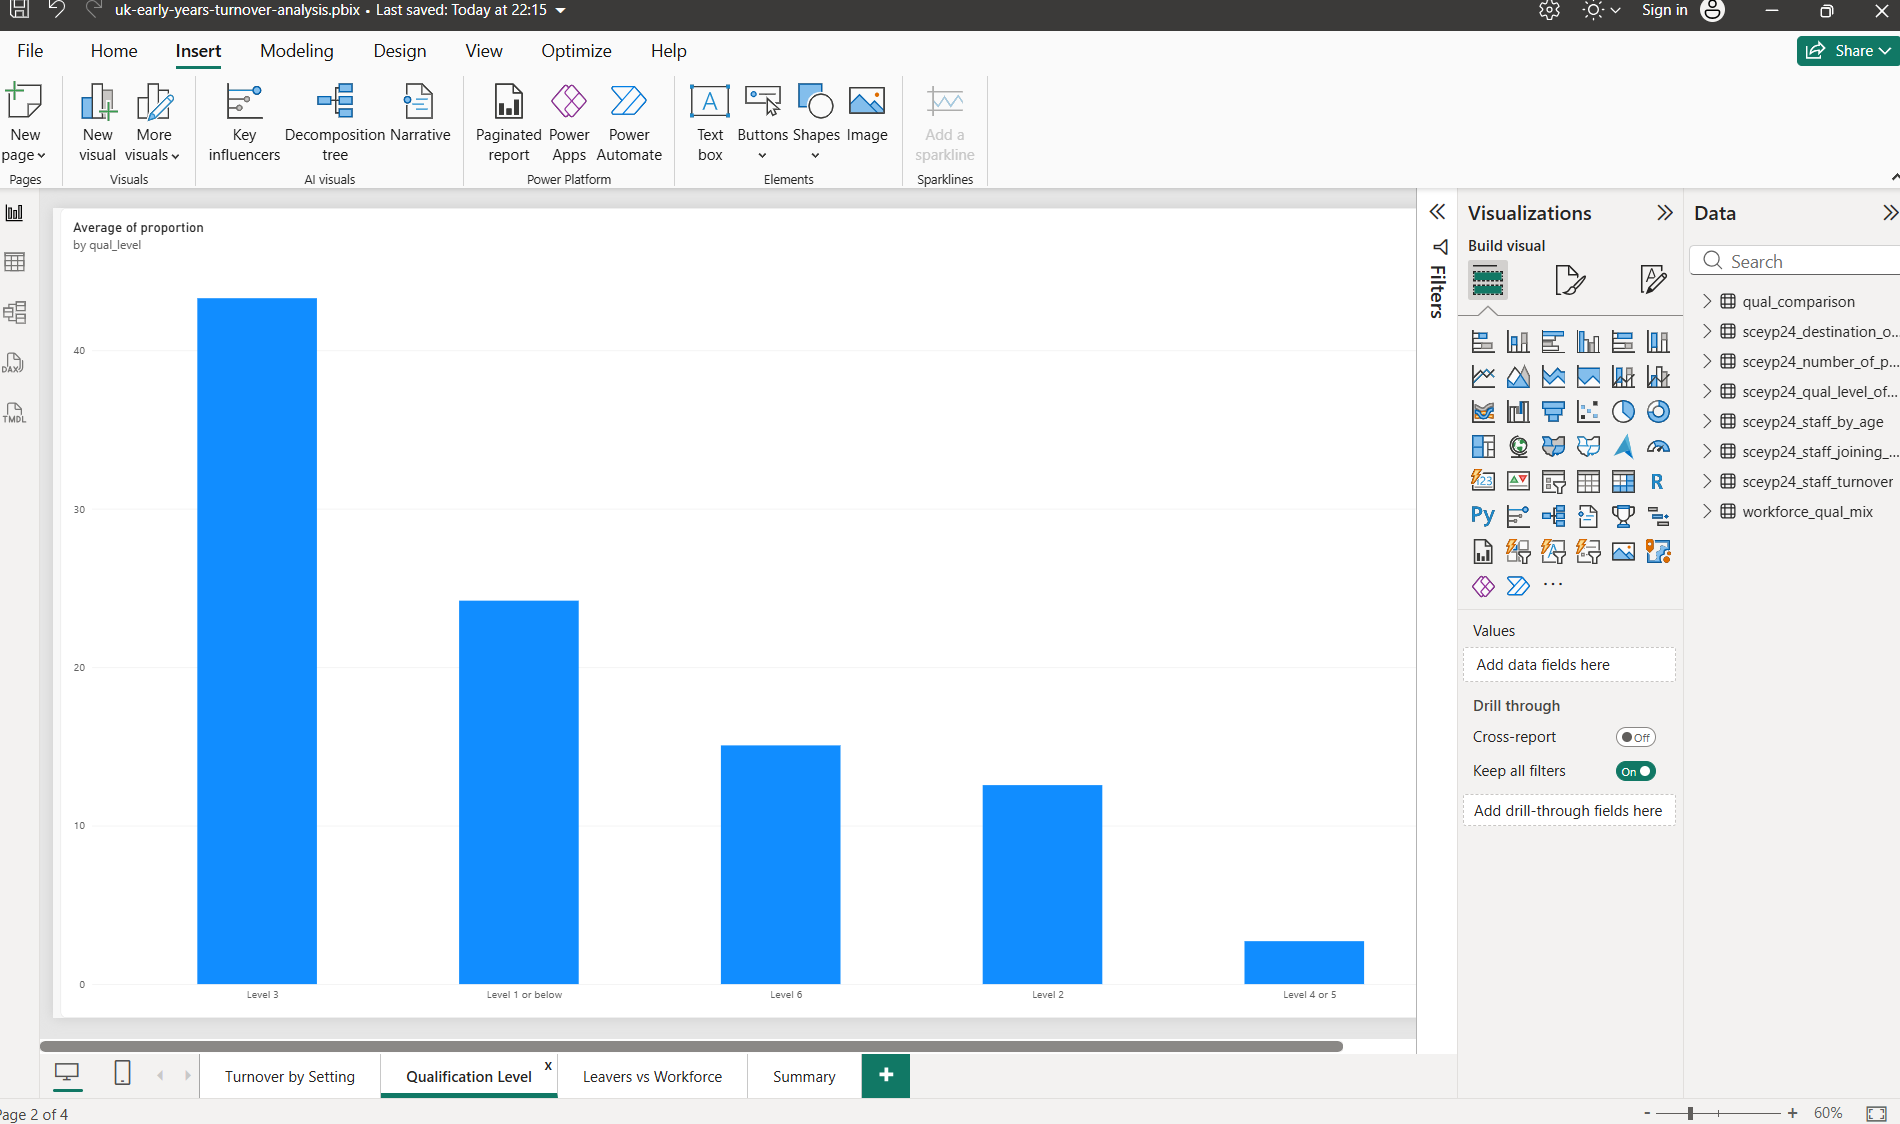

The page's visual inventory and layout, read from the dashboard file:
{"tool":"powerbi","page":{"name":"Qualification Level","canvas":[1920,1080],"ordinal":1},"visuals":[{"type":"clusteredColumnChart","fields":{"Category":["sceyp24_qual_level_of_staff_leaving.qual_level"],"Y":["Avg(sceyp24_qual_level_of_staff_leaving.proportion)"]},"box":[10,0,1910,1080],"z":0}]}

Visuals, with their boxes on the page's 1920x1080 design canvas (x1, y1, x2, y2). These are canvas units, not pixel positions in the 1900x1124 screenshot, which may show the page scaled, cropped or inside an application window:
clusteredColumnChart - sceyp24_qual_level_of_staff_leaving.qual_level x Avg(sceyp24_qual_level_of_staff_leaving.proportion): bbox=[10, 0, 1920, 1080]
